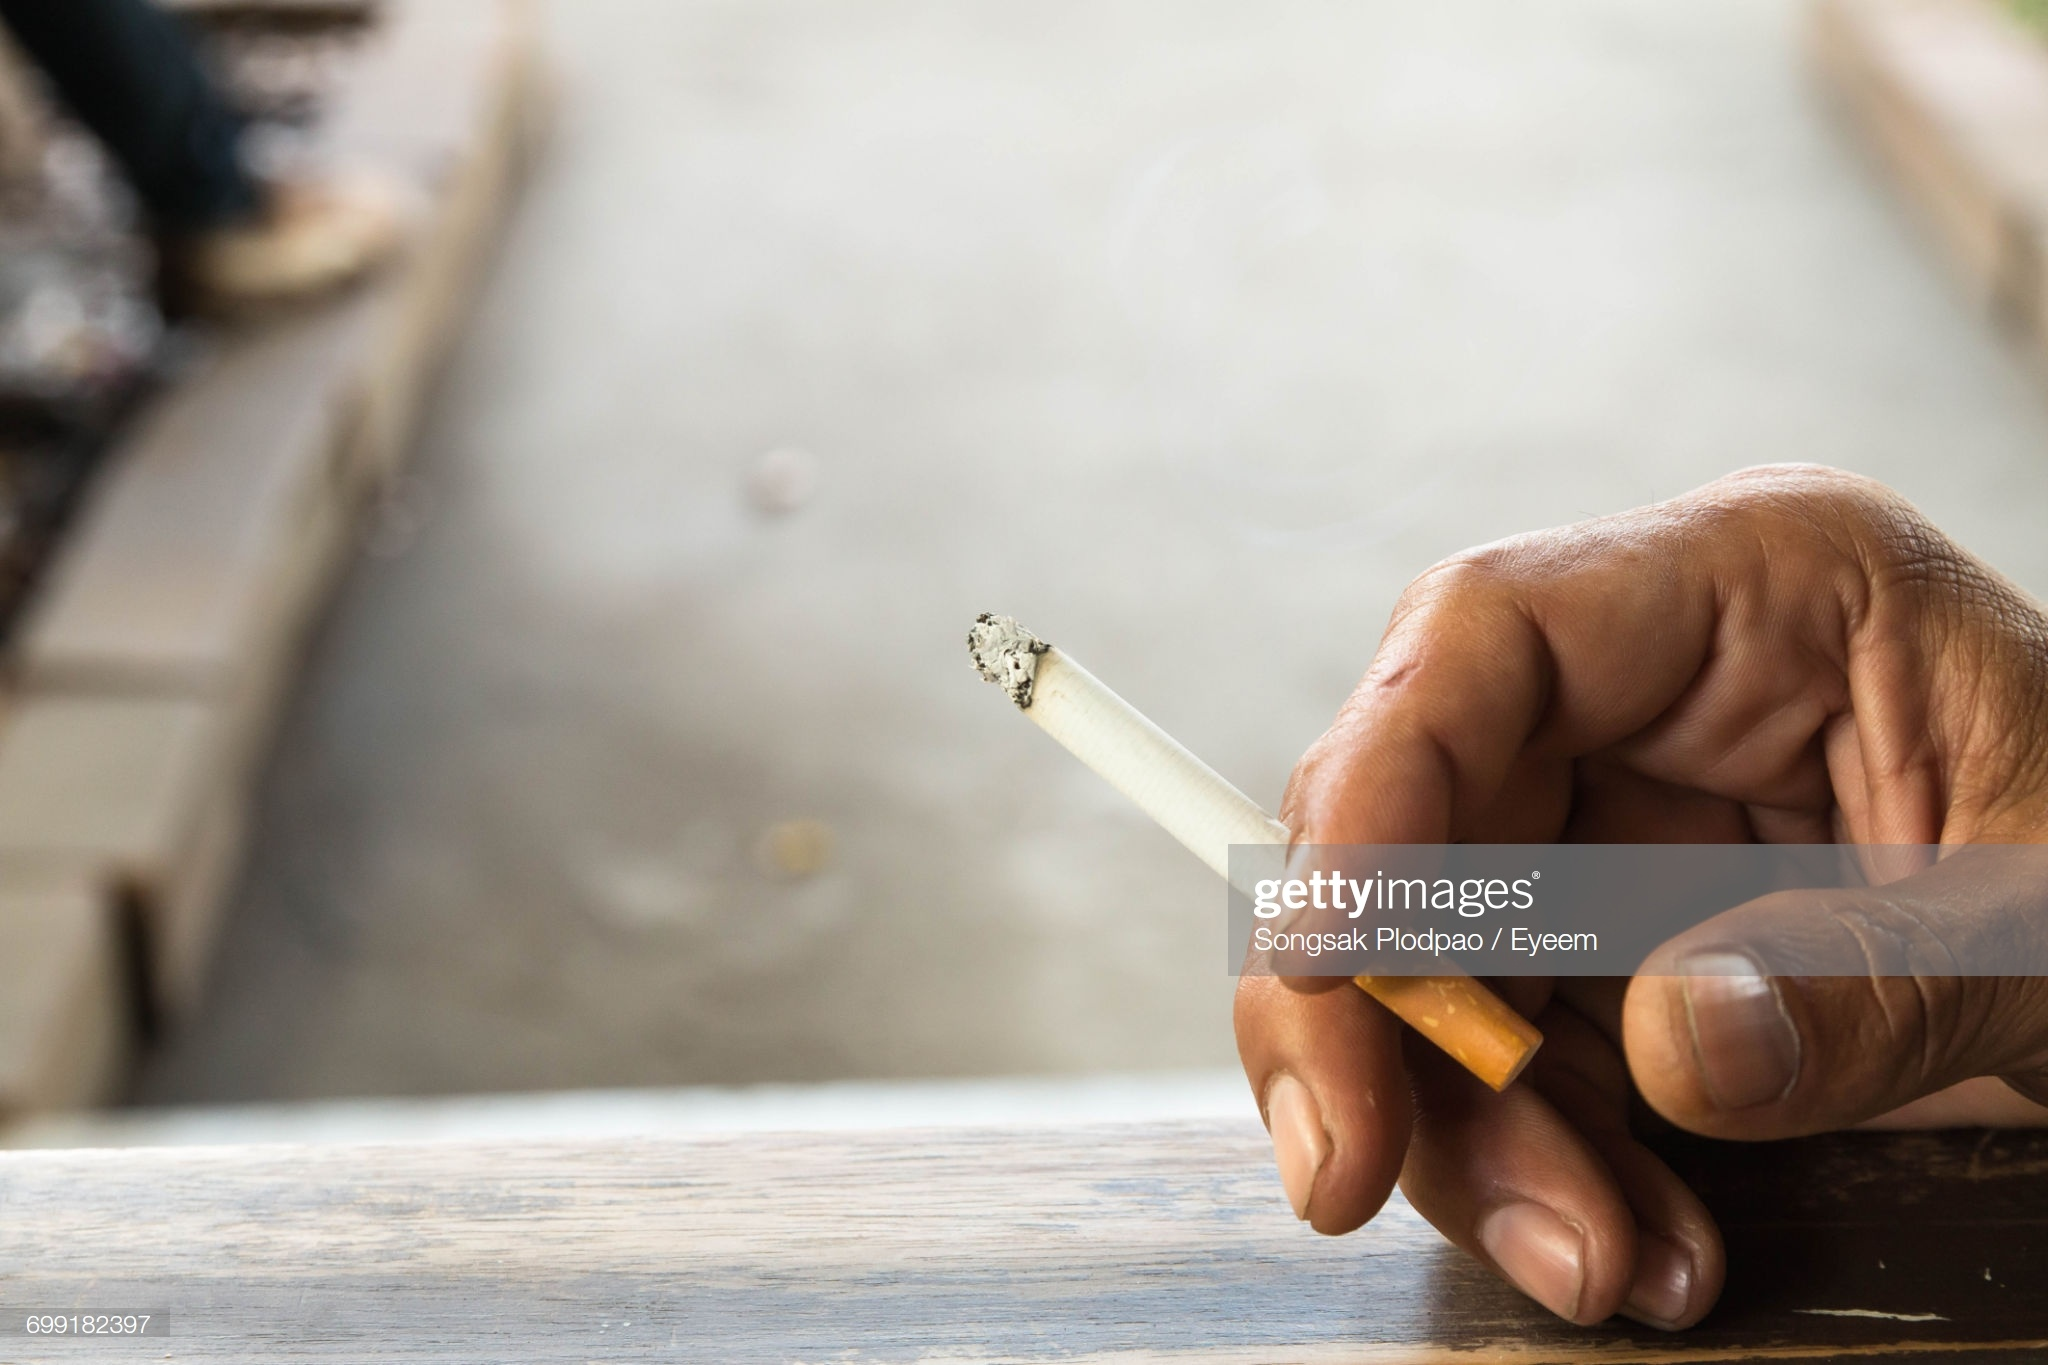sigaretta: (956, 619, 1538, 1095)
